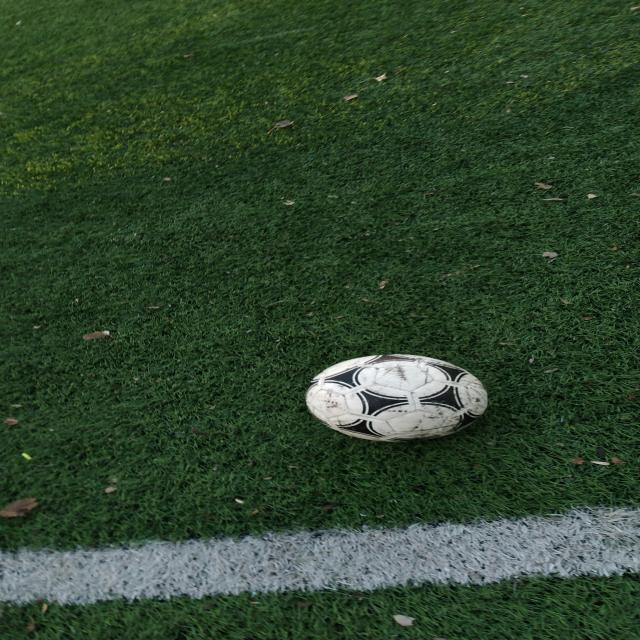Ball: (306, 354, 488, 442)
